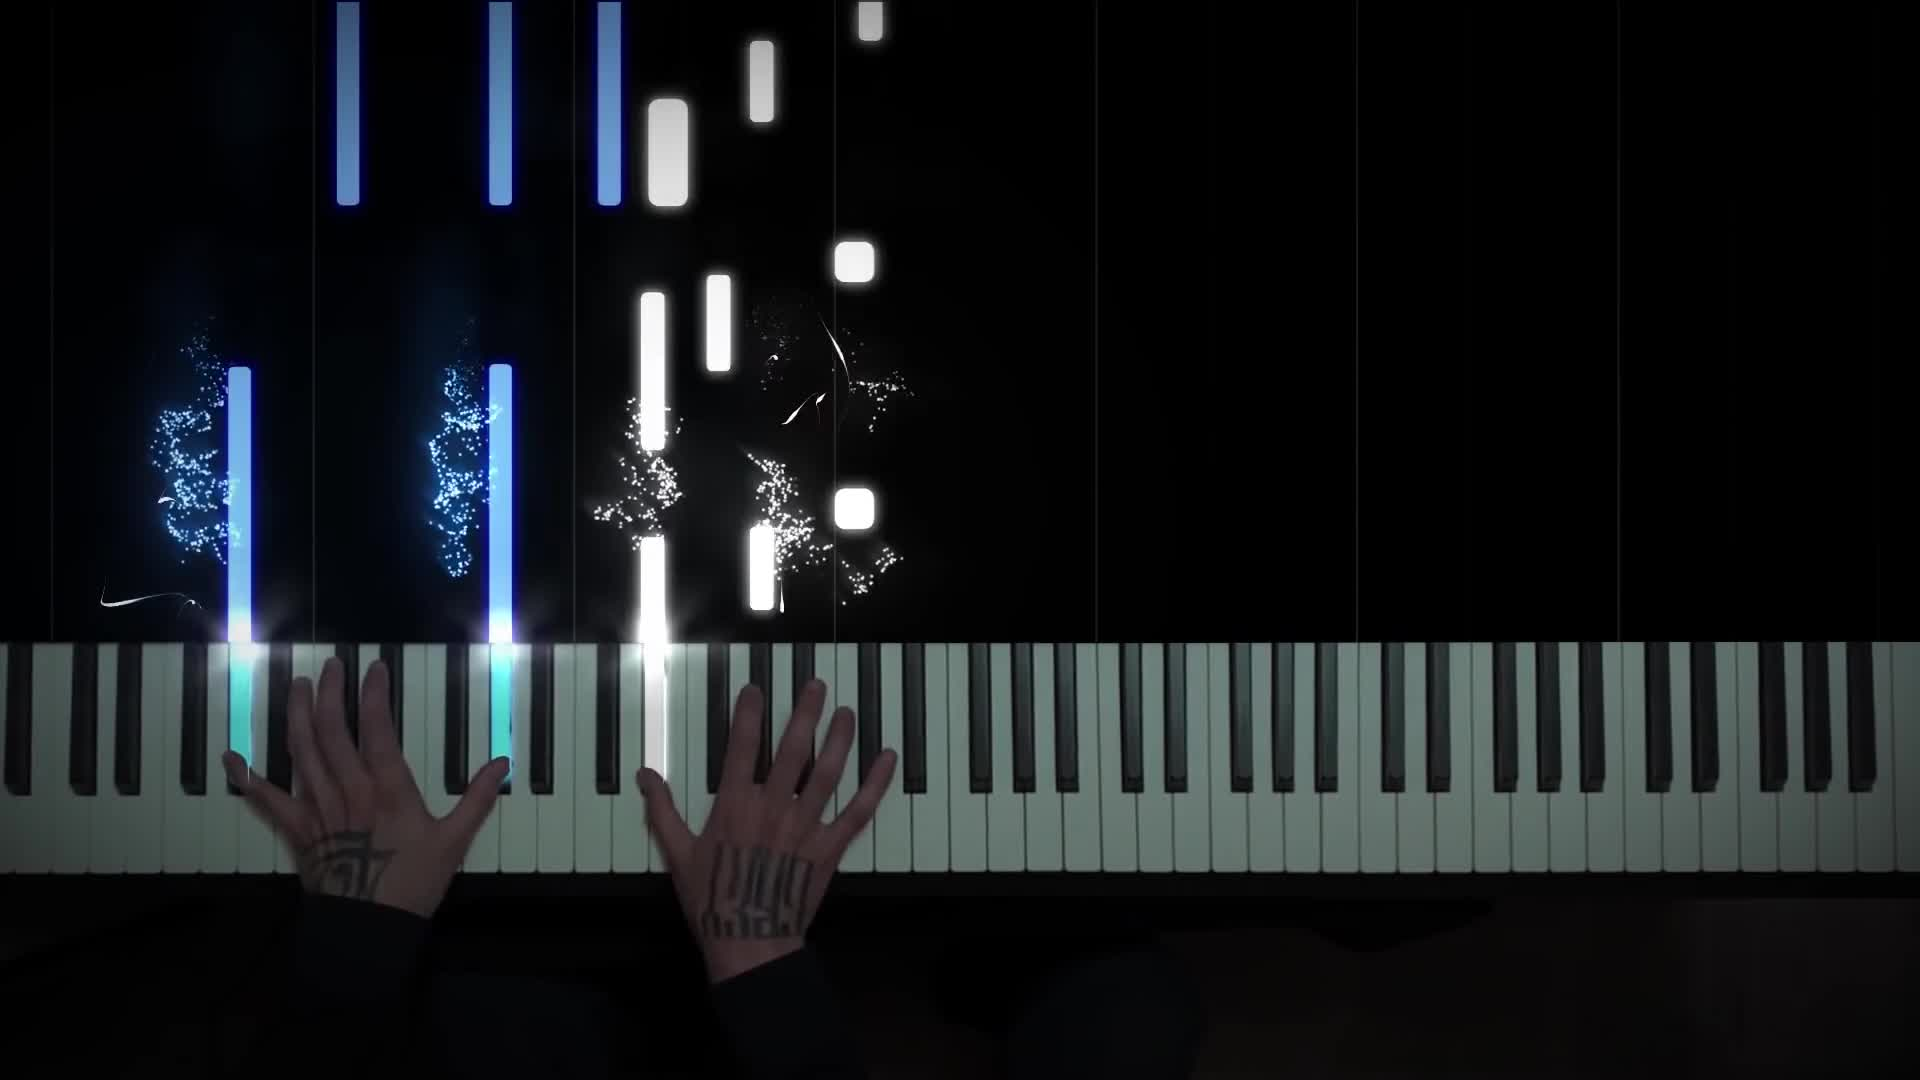left: (214, 655, 512, 931)
right: (632, 671, 897, 955)
